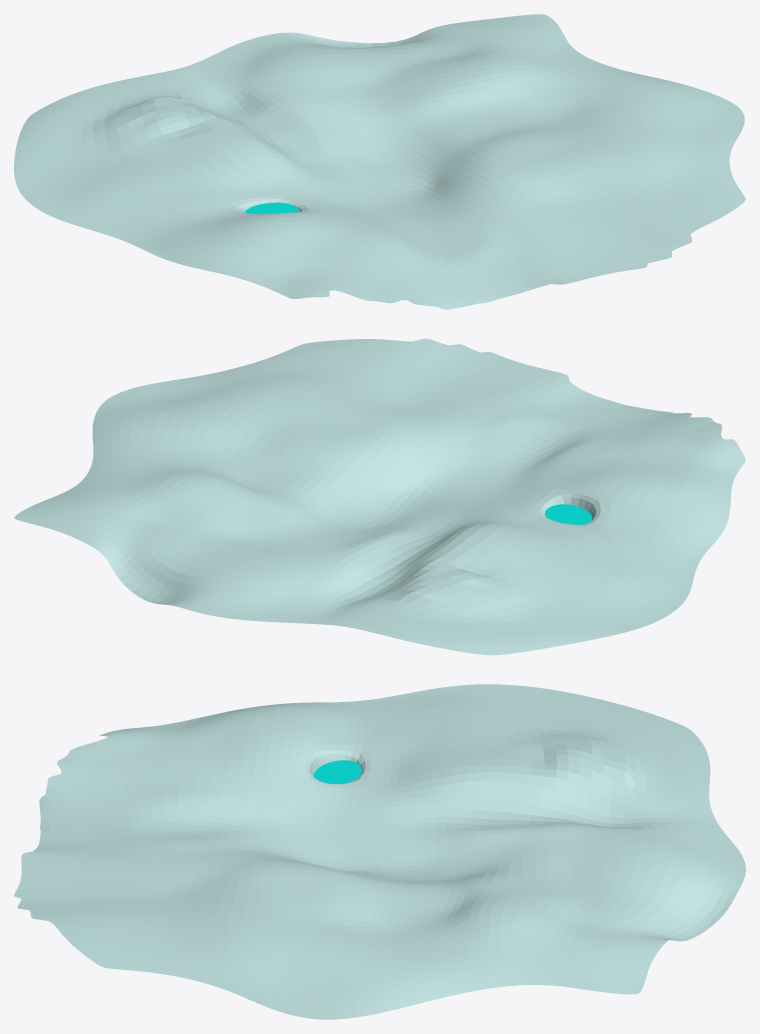
Rendered from pole_nord_ground (1).fbx.
3 views of the same model, one above another, from view 1: azimuth 30°, elevation 25°; view 2: azimuth 150°, elevation 25°; view 3: azimuth 270°, elevation 25° (orthographic). The views are drawn at different scales.
Visible parts, largest first — view 1: pole_nord.001; view 2: pole_nord.001; view 3: pole_nord.001.
Part boxes in pixels (x1,y1,x2,y2): pole_nord.001: (14,14,745,309); pole_nord.001: (14,338,745,655); pole_nord.001: (14,684,745,1019).
Size of the model in its own units: 20436 by 1083 by 18764.
